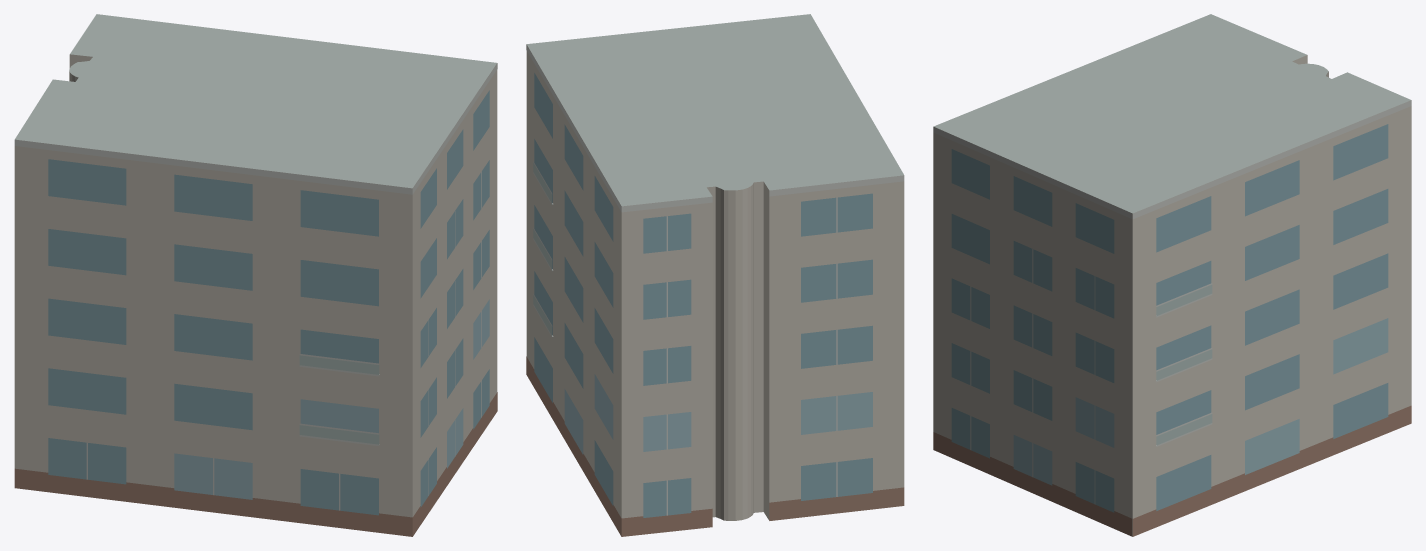
Rendered from survey-upis-32885041.glb.
The picture shows the model from 3 angles, left to right: view 1: azimuth 30°, elevation 25°; view 2: azimuth 150°, elevation 25°; view 3: azimuth 270°, elevation 25°; orthographic projection. The views are drawn at different scales.
Parts seen in each view (by area): view 1: survey-upis-32885041.tmp; view 2: survey-upis-32885041.tmp; view 3: survey-upis-32885041.tmp.
Part boxes in pixels (x1,y1,x2,y2): survey-upis-32885041.tmp: (14, 14, 497, 536); survey-upis-32885041.tmp: (526, 14, 904, 536); survey-upis-32885041.tmp: (933, 14, 1411, 536).
Bounding box in the file's own units: 17.74 × 13.4 × 17.96.
